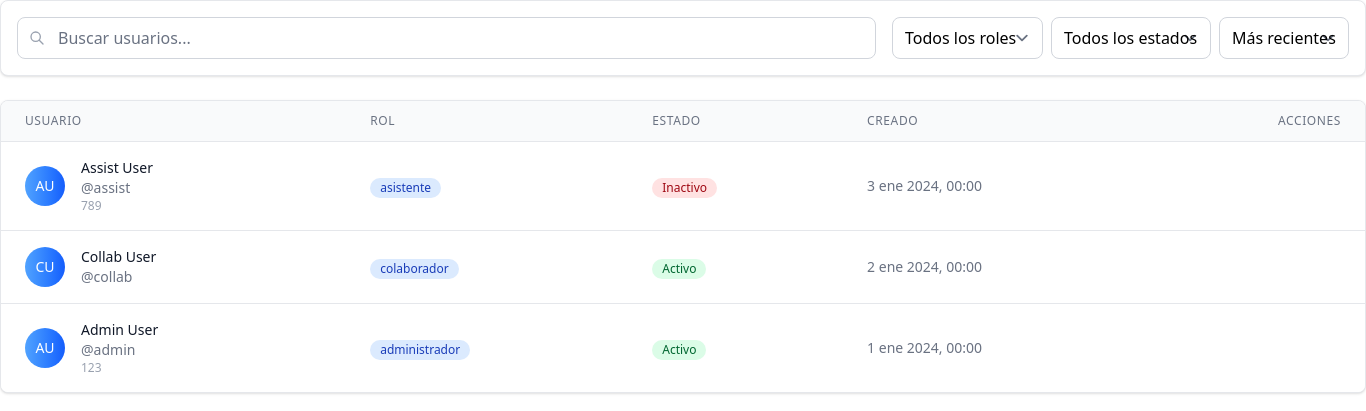
UserList › Search and Filters › should sort by name
Select "Nombre (A-Z)" in the 3rd dropdown at (1284, 38), box [1219,17,1349,59]
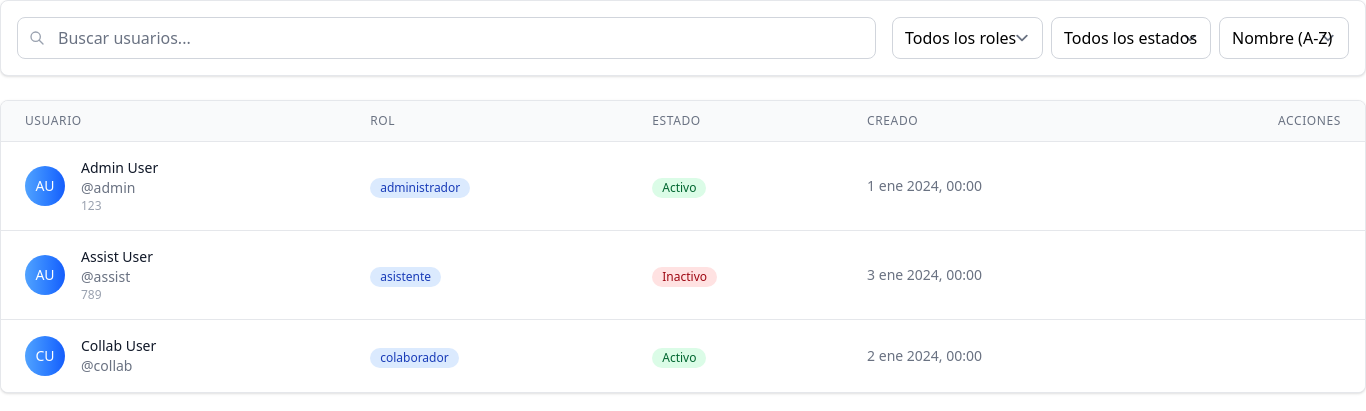
Now the text with class "font-medium" reads "Admin User", box [81,158,158,177]
